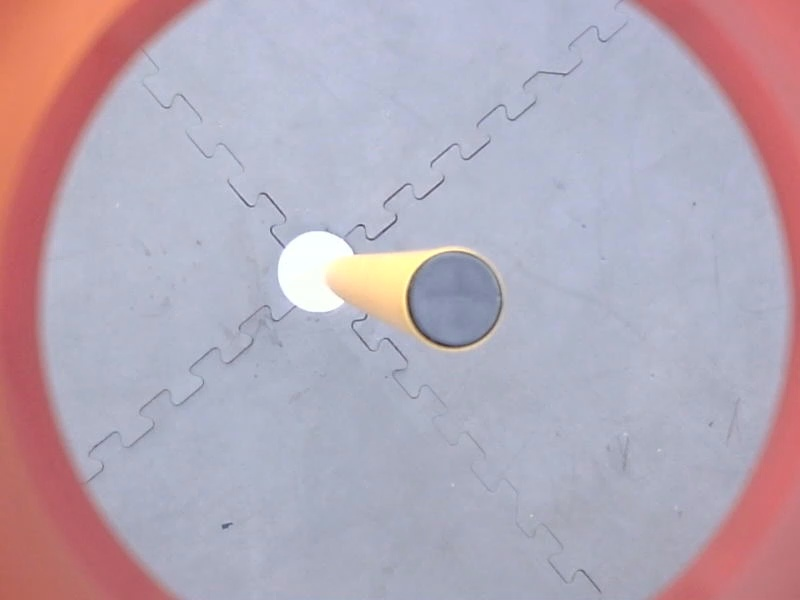tip: (400, 242, 512, 359)
